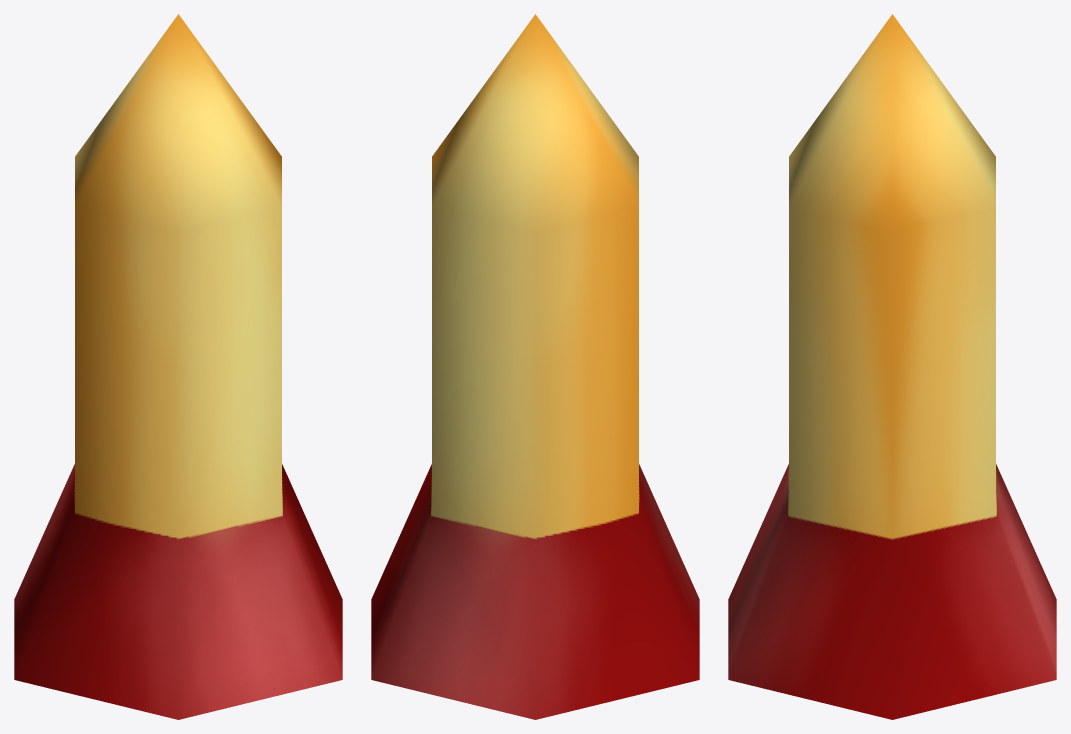
Rendered from daogan.FBX.
3 renders of one model, left to right at view 1: azimuth 30°, elevation 25°; view 2: azimuth 150°, elevation 25°; view 3: azimuth 270°, elevation 25°, orthographic.
Parts seen in each view (by area): view 1: Cylinder001; view 2: Cylinder001; view 3: Cylinder001.
Boxes of the visible parts, box(x1,y1,x2,y2) form: Cylinder001: box(14, 14, 342, 719); Cylinder001: box(371, 14, 699, 719); Cylinder001: box(728, 14, 1056, 719).
Bounding box in the file's own units: 0.7573 × 1.38 × 0.6558.
1 material, 1 textured.
